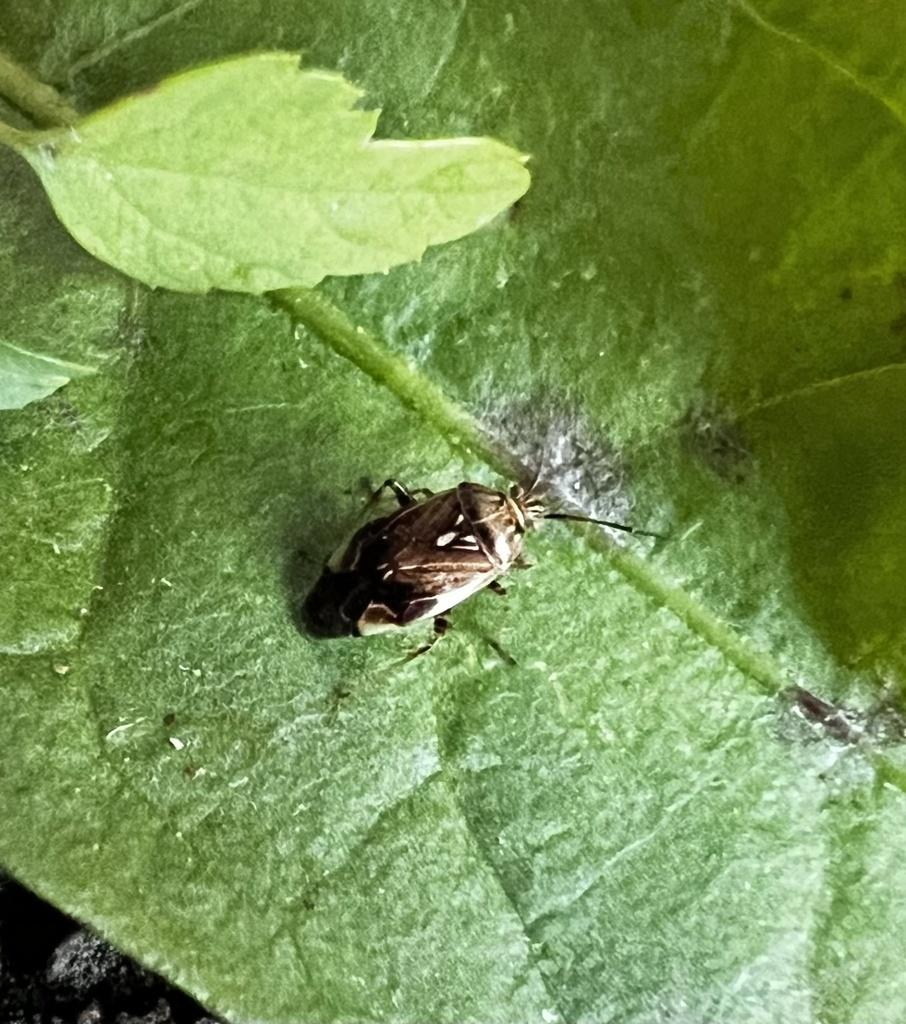plant_bugs: (221, 387, 704, 780)
